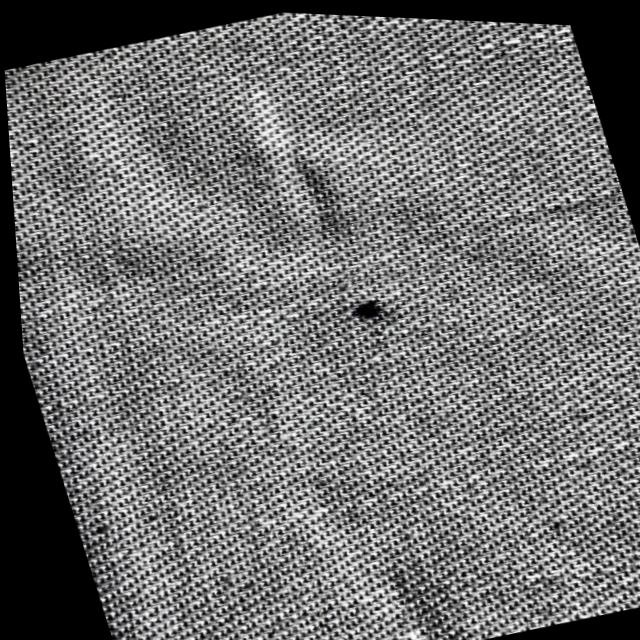Hole: (324, 278, 413, 344)
